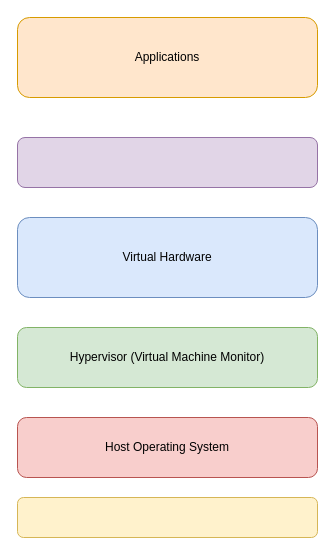
This 335x555 diagram has some shape labels left out. The centre of each missing label's shape, as x and y in pixels:
Guest Operating System: (167,162)
Physical Hardware: (167,517)
